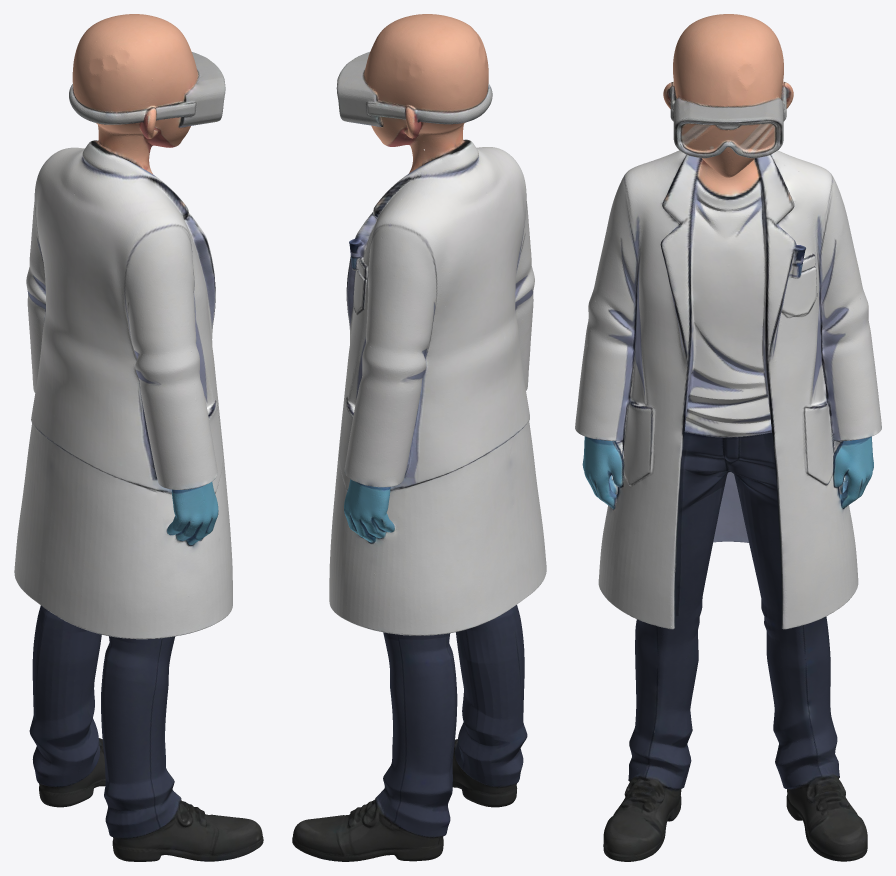
The model's file is scientist+character+3d+model.glb.
3 renders of one model, left to right at view 1: azimuth 30°, elevation 25°; view 2: azimuth 150°, elevation 25°; view 3: azimuth 270°, elevation 25°, orthographic.
Parts seen in each view (by area): view 1: tripo_node_59a50957-ac33-4c6e-bf62-9f5da570081e; view 2: tripo_node_59a50957-ac33-4c6e-bf62-9f5da570081e; view 3: tripo_node_59a50957-ac33-4c6e-bf62-9f5da570081e.
Boxes of the visible parts, left/top/right/bottom form: tripo_node_59a50957-ac33-4c6e-bf62-9f5da570081e: left=14, top=14, right=263, bottom=861; tripo_node_59a50957-ac33-4c6e-bf62-9f5da570081e: left=292, top=14, right=546, bottom=861; tripo_node_59a50957-ac33-4c6e-bf62-9f5da570081e: left=575, top=14, right=881, bottom=861.
Size of the model in its own units: 0.2252 by 1 by 0.3448.
1 material, 1 textured.
